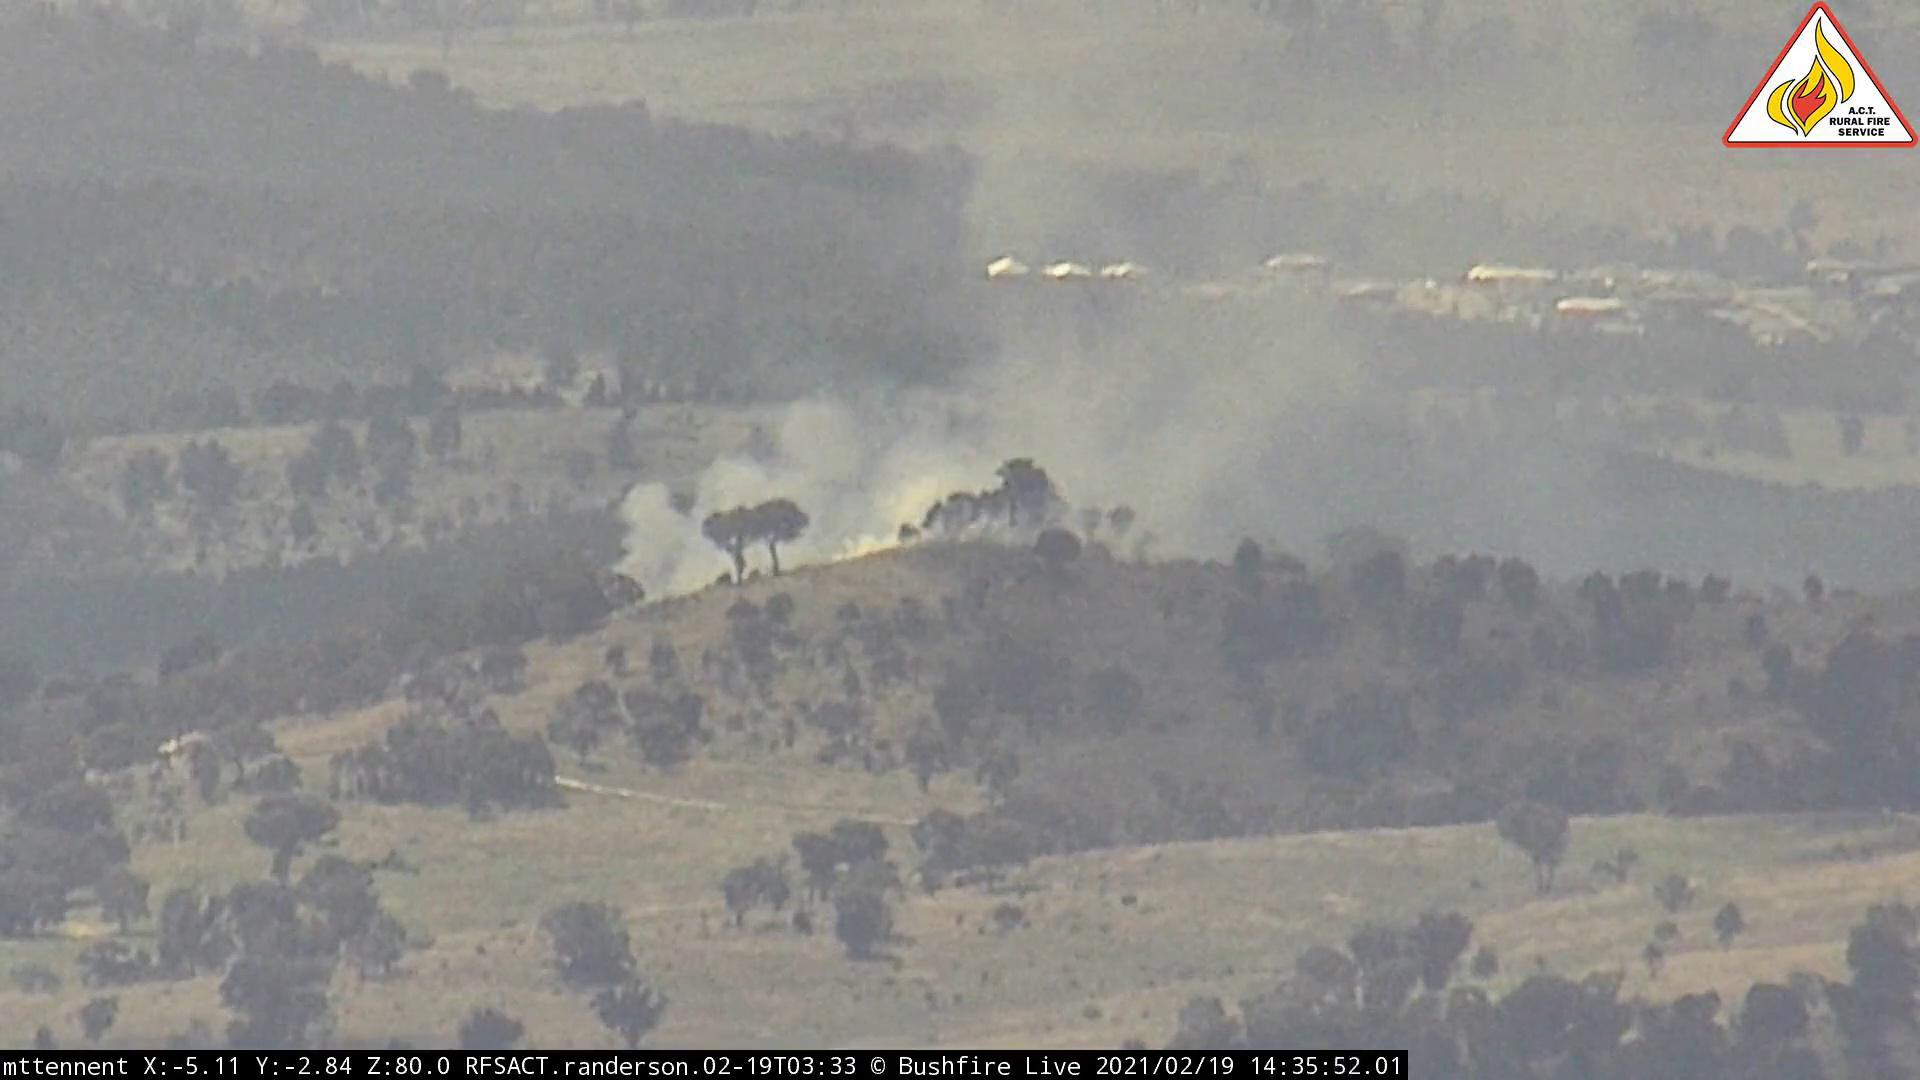instance_salient_object: (582, 108, 1460, 649)
